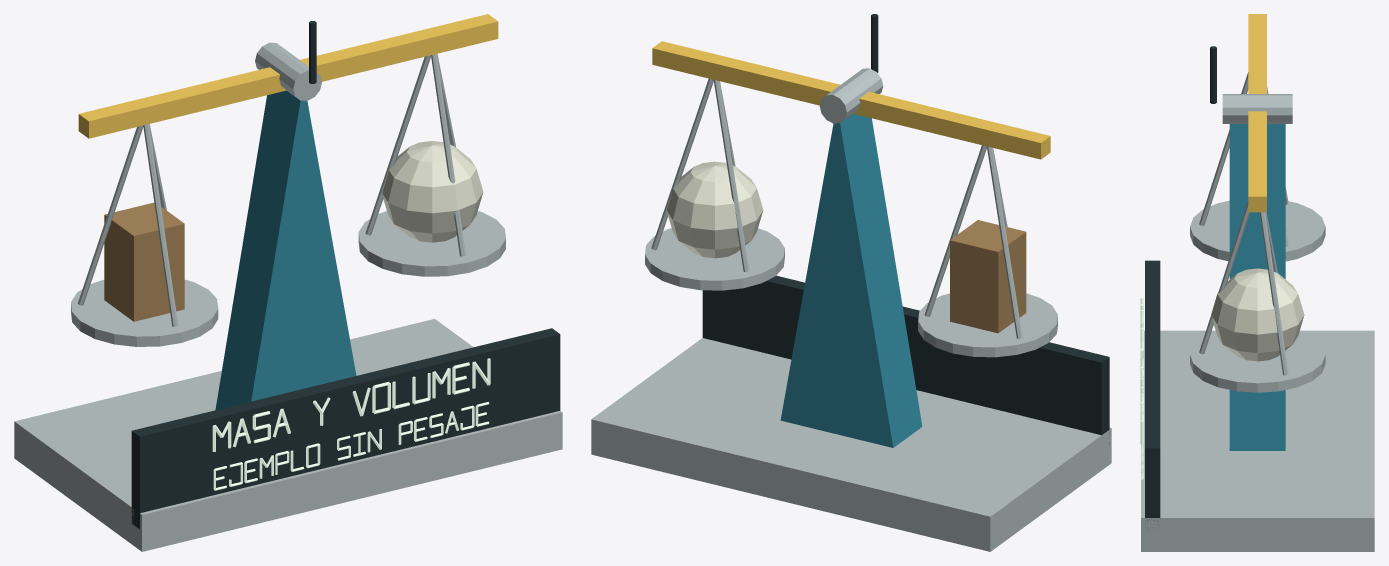
The model's file is SHARED-005.glb.
3 views of the same model, side by side, from view 1: azimuth 30°, elevation 25°; view 2: azimuth 150°, elevation 25°; view 3: azimuth 270°, elevation 25° (orthographic). The views are drawn at different scales.
Visible parts, largest first — view 1: SHARED-005; view 2: SHARED-005; view 3: SHARED-005.
Part boxes in pixels (x1=…): SHARED-005: x1=14, y1=14, x2=562, y2=551; SHARED-005: x1=591, y1=14, x2=1111, y2=551; SHARED-005: x1=1140, y1=14, x2=1374, y2=551.
Size of the model in its own units: 1.9 by 1.94 by 1.
